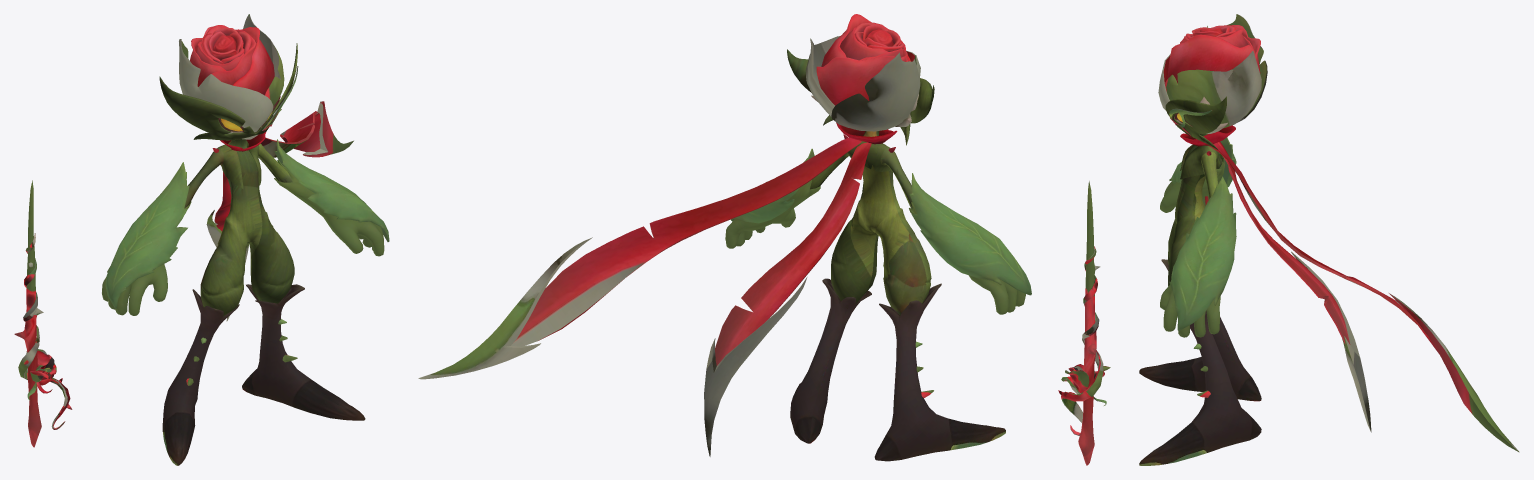
The model's file is thornblade.glb.
The picture shows the model from 3 angles, left to right: view 1: azimuth 30°, elevation 25°; view 2: azimuth 150°, elevation 25°; view 3: azimuth 270°, elevation 25°; orthographic projection. The views are drawn at different scales.
Visible parts, largest first — view 1: M_Parmon_10323_Body_LOD1_1582612091.obj, M_Parmon_10323_Body01_LOD1_1582612091.obj, M_Parmon_10323_Body03_LOD1_1582612091.obj; view 2: M_Parmon_10323_Body_LOD1_1582612091.obj, M_Parmon_10323_Body01_LOD1_1582612091.obj, M_Parmon_10323_Body03_LOD1_1582612091.obj; view 3: M_Parmon_10323_Body_LOD1_1582612091.obj, M_Parmon_10323_Body01_LOD1_1582612091.obj.
Part boxes in pixels (x1,y1,x2,y2): M_Parmon_10323_Body_LOD1_1582612091.obj: [102, 14, 389, 465]; M_Parmon_10323_Body01_LOD1_1582612091.obj: [159, 43, 297, 315]; M_Parmon_10323_Body03_LOD1_1582612091.obj: [14, 180, 72, 447]; M_Parmon_10323_Body_LOD1_1582612091.obj: [418, 14, 1031, 461]; M_Parmon_10323_Body01_LOD1_1582612091.obj: [787, 49, 934, 315]; M_Parmon_10323_Body03_LOD1_1582612091.obj: [1058, 181, 1110, 465]; M_Parmon_10323_Body_LOD1_1582612091.obj: [1139, 14, 1519, 465]; M_Parmon_10323_Body01_LOD1_1582612091.obj: [1165, 96, 1226, 286].
Size of the model in its own units: 2.02 by 1.54 by 1.34.
Materials: 3 (3 with a texture image).
